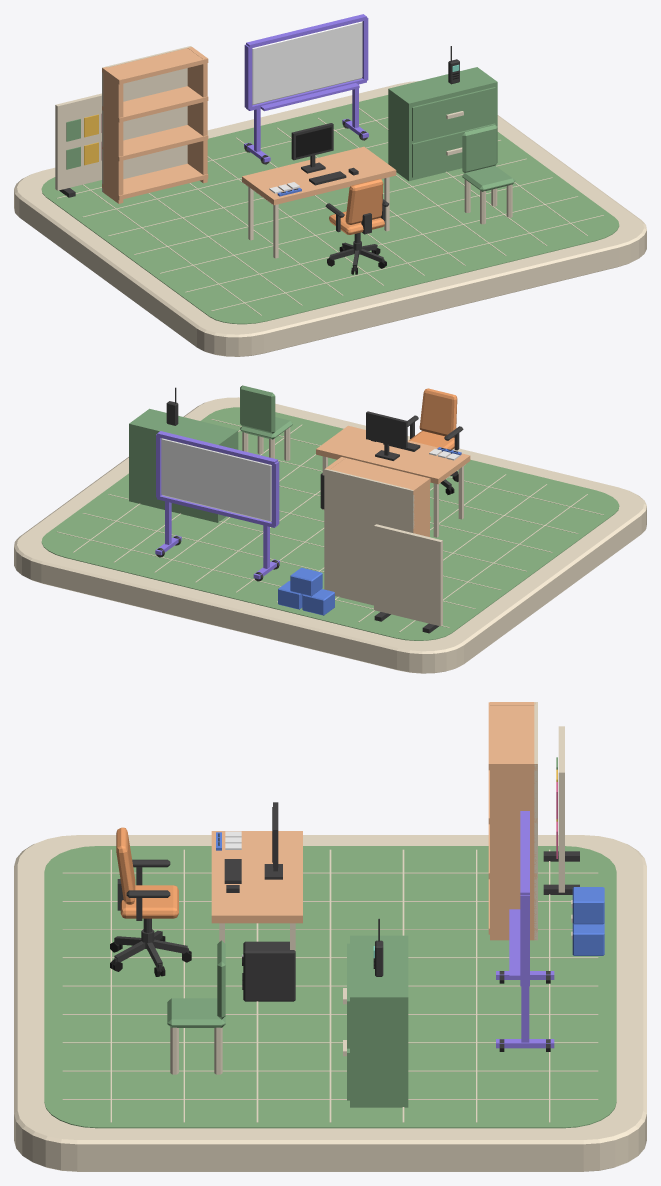
Rendered from room.fbx.
3 views of the same model, one above another, from view 1: azimuth 30°, elevation 25°; view 2: azimuth 150°, elevation 25°; view 3: azimuth 270°, elevation 25° (orthographic). The views are drawn at different scales.
Visible parts, largest first — view 1: COM-02 Floor Surface, COM-01 Rounded Base Direct, Cabinet, Writing surface, Top, Back, COM-04_Chair_blender_direct, Panel, Side, Side.001, Shelf.003, Shelf.002 (+9 smaller); view 2: COM-02 Floor Surface, COM-01 Rounded Base Direct, Back, Writing surface, Panel, Cabinet, Top, COM-04_Chair_blender_direct, Backrest, Frame, Shelf.003, Frame rail.001 (+7 smaller); view 3: COM-02 Floor Surface, COM-01 Rounded Base Direct, Cabinet, Top, Side.001, COM-04_Chair_blender_direct, Tower, Shelf.003, Seat, Stacked case.002, Panel, Stacked case.001 (+12 smaller).
Part boxes in pixels (x1,y1,x2,y2): COM-02 Floor Surface: [41, 95, 619, 324]; COM-01 Rounded Base Direct: [14, 81, 646, 356]; Cabinet: [388, 67, 497, 180]; Writing surface: [252, 21, 362, 105]; Top: [242, 146, 396, 258]; Back: [102, 46, 191, 192]; COM-04_Chair_blender_direct: [325, 179, 388, 274]; Panel: [55, 93, 101, 190]; Side: [103, 67, 123, 203]; Side.001: [187, 47, 207, 183]; Shelf.003: [102, 48, 208, 84]; Shelf.002: [102, 86, 208, 122]; COM-02 Floor Surface: [41, 407, 619, 640]; COM-01 Rounded Base Direct: [14, 397, 646, 673]; Back: [324, 469, 414, 605]; Writing surface: [161, 438, 271, 521]; Panel: [374, 524, 442, 626]; Cabinet: [129, 408, 238, 522]; Top: [316, 425, 470, 537]; COM-04_Chair_blender_direct: [407, 388, 463, 494]; Backrest: [240, 385, 275, 433]; Frame: [366, 411, 407, 460]; Shelf.003: [330, 457, 430, 494]; Frame rail.001: [157, 431, 277, 464]; COM-02 Floor Surface: [44, 846, 616, 1128]; COM-01 Rounded Base Direct: [14, 835, 646, 1171]; Cabinet: [343, 935, 408, 1107]; Top: [211, 831, 302, 950]; Side.001: [490, 760, 536, 940]; COM-04_Chair_blender_direct: [110, 827, 191, 976]; Tower: [243, 941, 295, 1001]; Shelf.003: [488, 702, 537, 770]; Seat: [167, 998, 225, 1027]; Stacked case.002: [572, 887, 604, 924]; Panel: [558, 726, 564, 892]; Stacked case.001: [572, 923, 604, 955].
Bounding box in the file's own units: 600 × 190 × 520.
